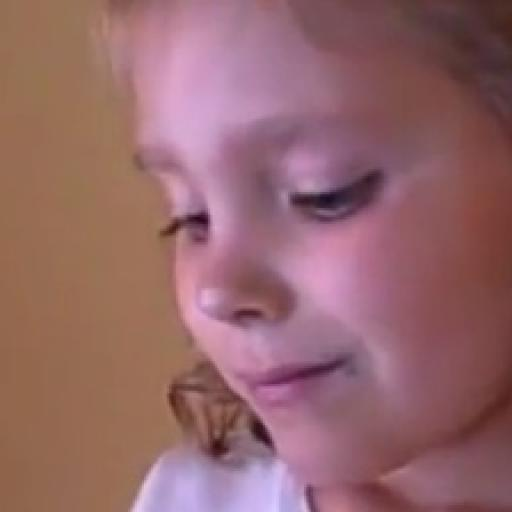Autism: (110, 12, 512, 504)
